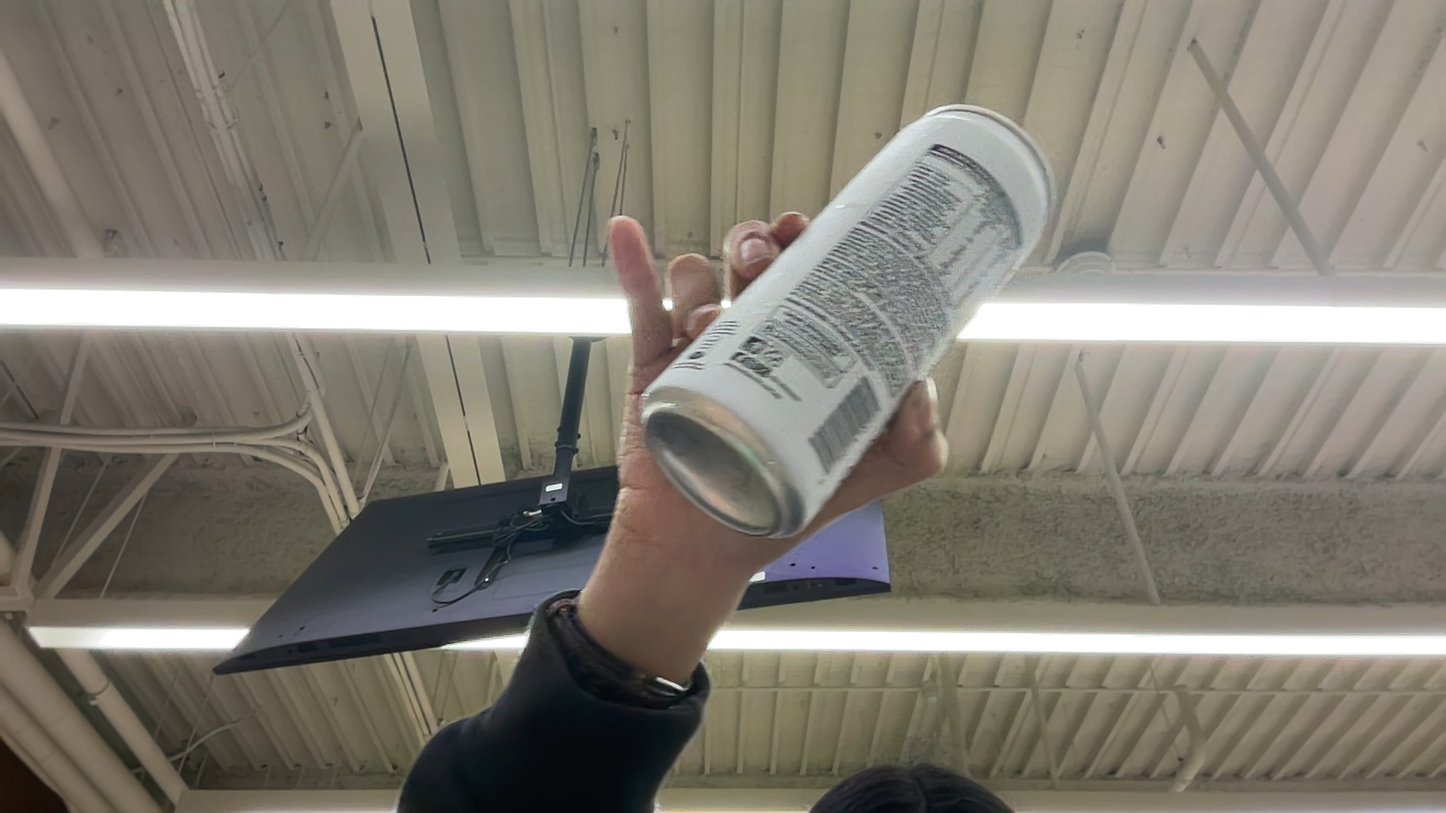Metal: (577, 101, 1129, 647)
